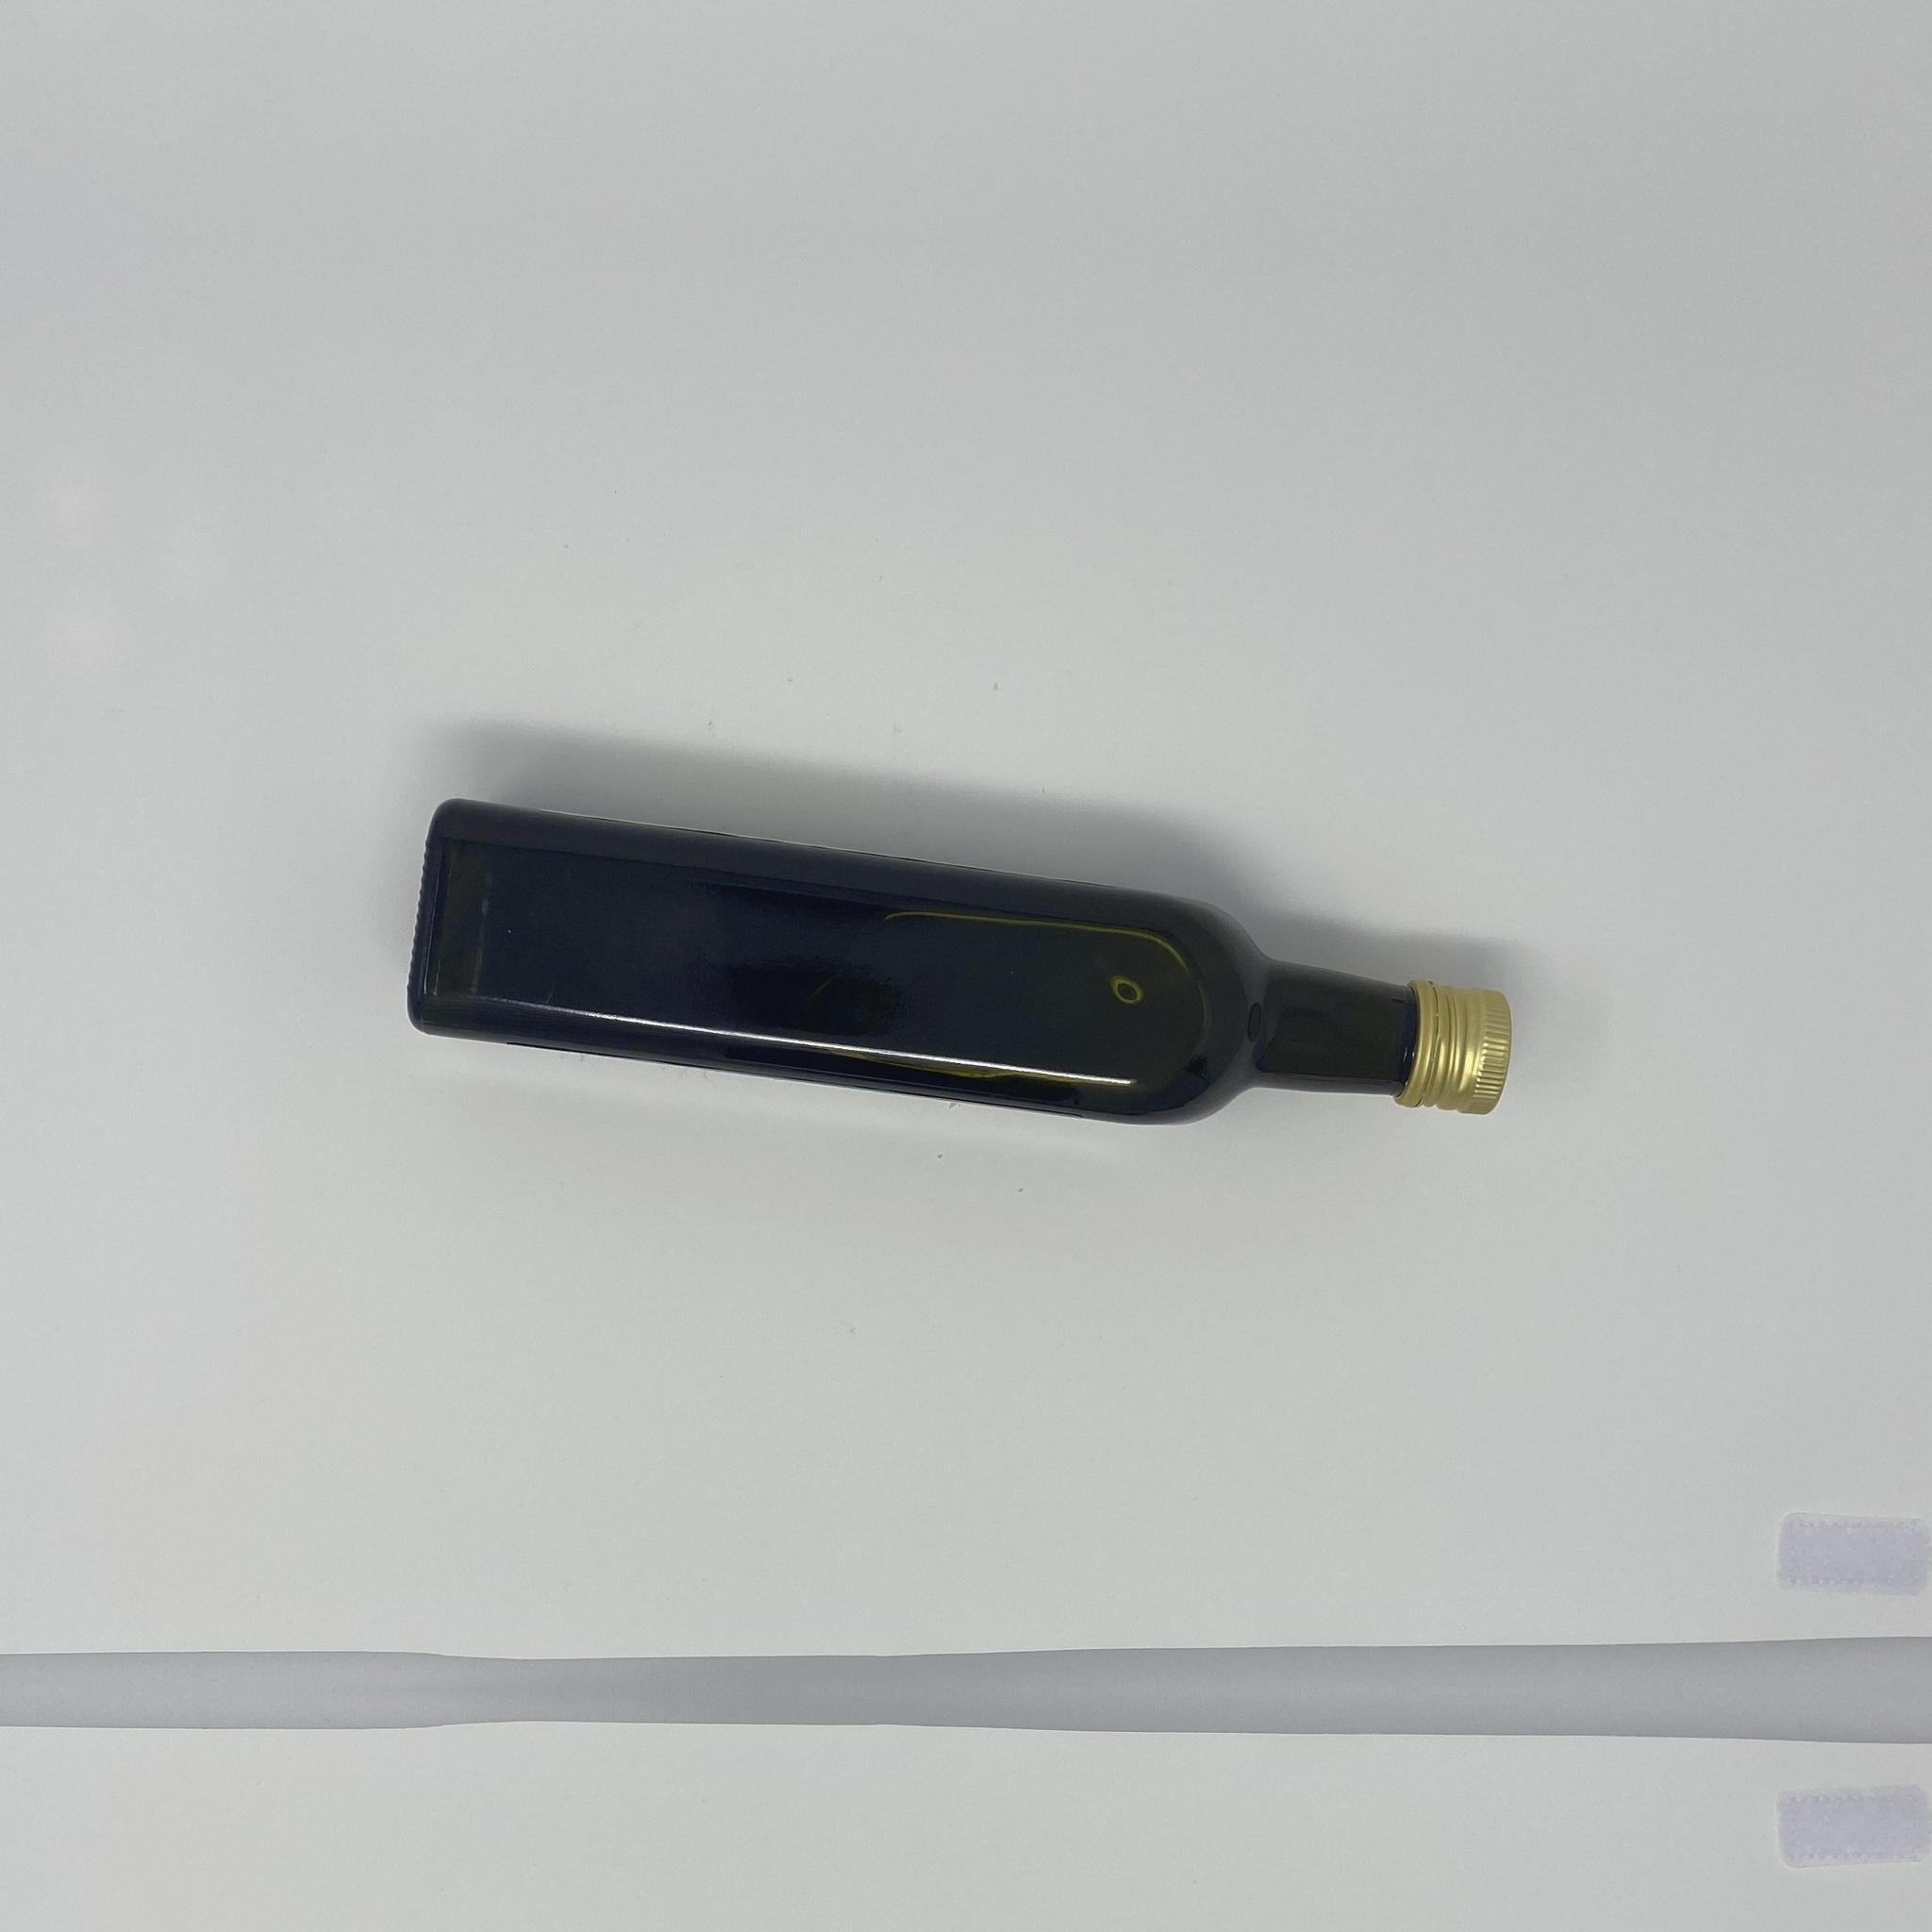glass: (405, 794, 1513, 1122)
oil: (405, 794, 1513, 1122)
sodocalcique: (405, 794, 1513, 1122)
